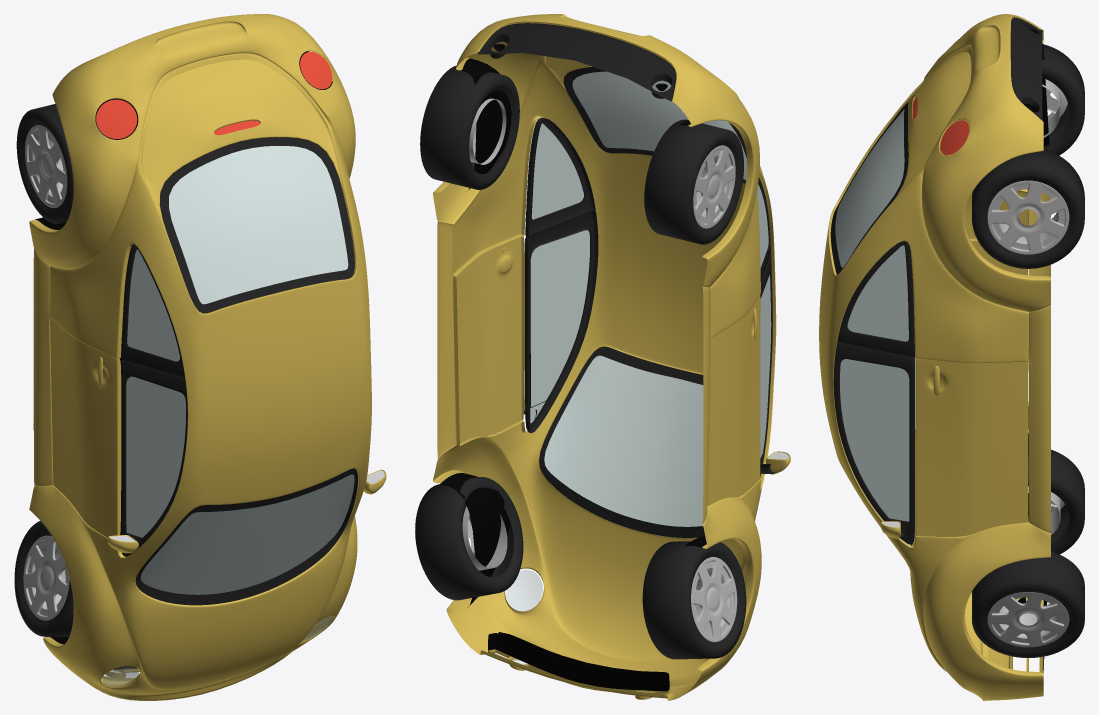
File: beetle.glb
3 renders of one model, left to right at view 1: azimuth 30°, elevation 25°; view 2: azimuth 150°, elevation 25°; view 3: azimuth 270°, elevation 25°, orthographic. The views are drawn at different scales.
Parts seen in each view (by area): view 1: rangka, kaca, frame_kaca, rims, lampu_spion, base; view 2: rangka, kaca, rims, frame_kaca, base, lampu_spion; view 3: rangka, rims, kaca, frame_kaca, lampu_spion, base.
Part boxes in pixels (x1,y1,x2,y2): rangka: (29, 14, 386, 700); kaca: (126, 146, 354, 594); frame_kaca: (121, 137, 357, 605); rims: (14, 104, 108, 637); lampu_spion: (96, 52, 384, 686); base: (33, 51, 332, 669); rangka: (433, 14, 790, 700); kaca: (530, 71, 771, 526); rims: (415, 65, 746, 659); frame_kaca: (477, 23, 772, 537); base: (440, 44, 706, 691); lampu_spion: (506, 390, 789, 692); rangka: (819, 14, 1050, 700); rims: (972, 44, 1084, 657); kaca: (835, 109, 910, 545); frame_kaca: (830, 17, 1043, 545); lampu_spion: (882, 39, 969, 678); base: (1018, 29, 1049, 669).
Bounding box in the file's own units: 1.68 × 3.56 × 1.35.
